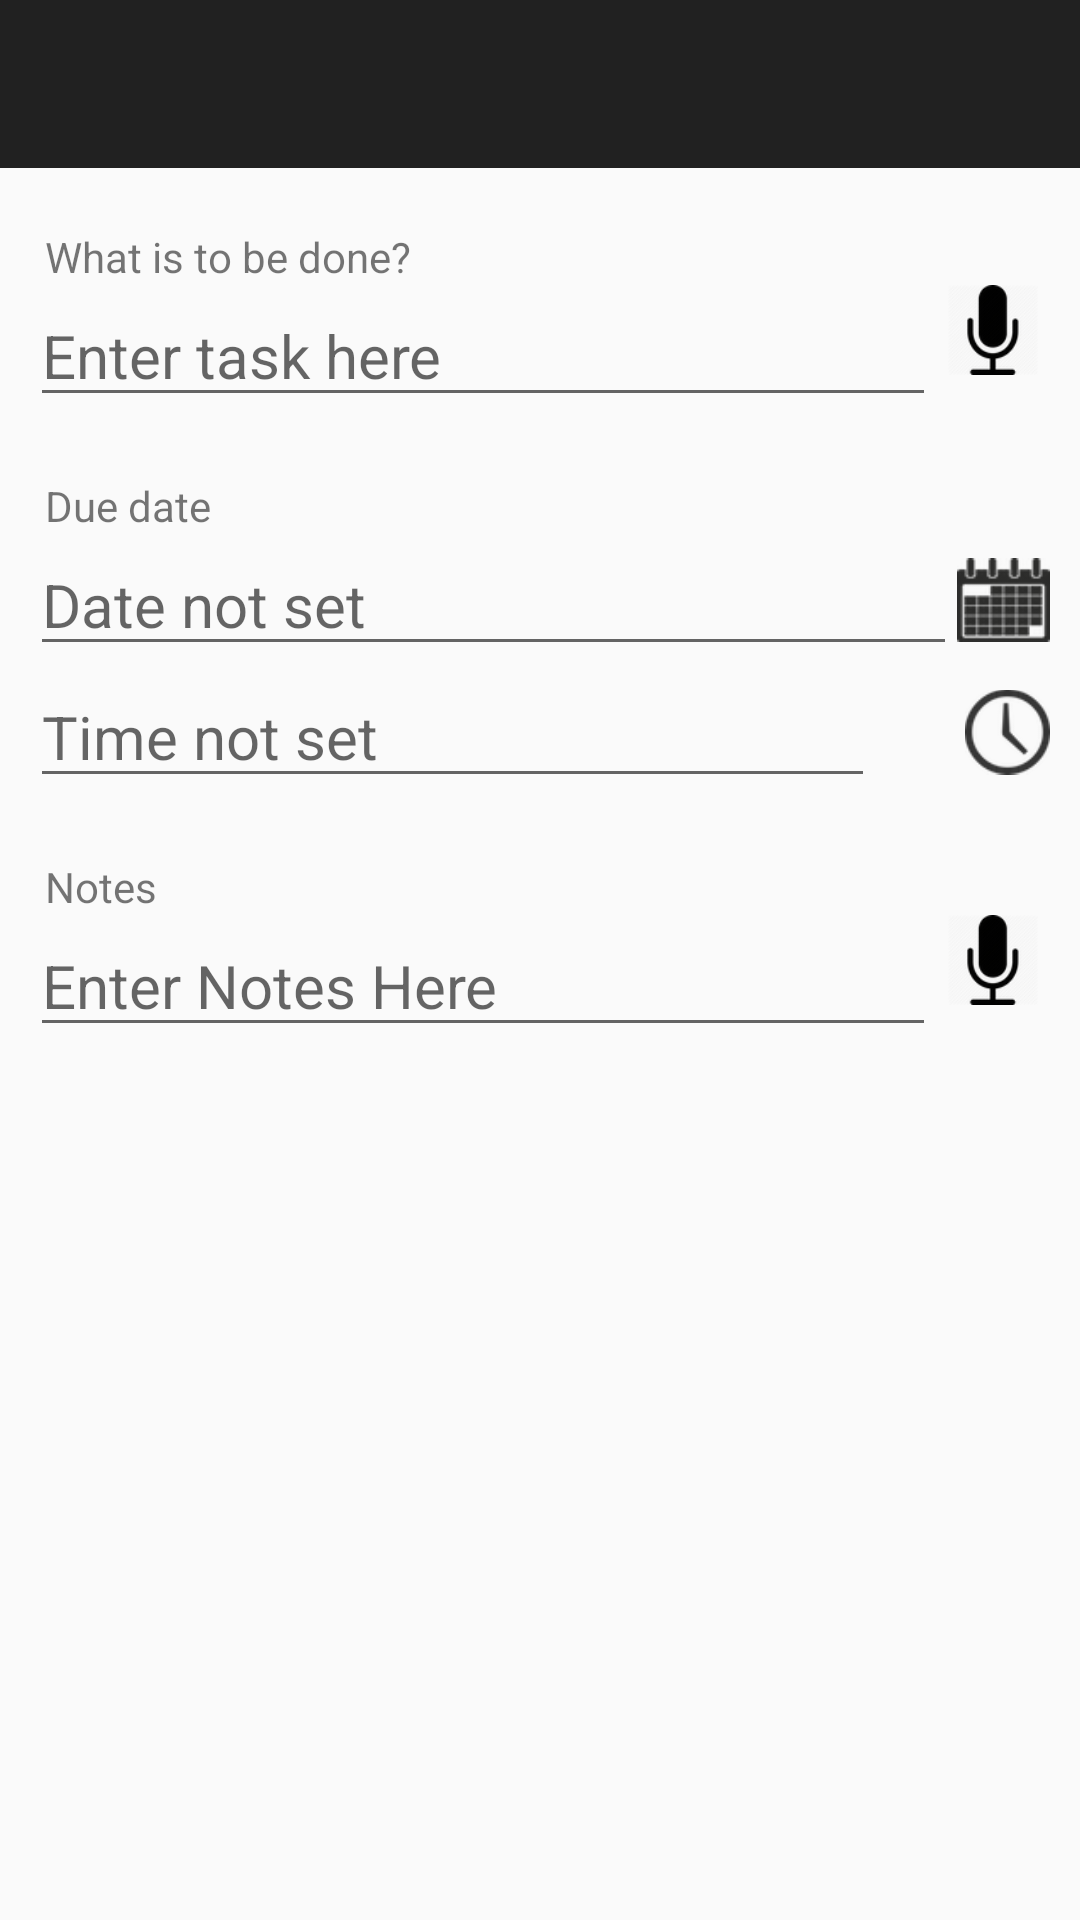

Named icons in this screenshot (1080 x 1920) and their centers, [x,y]:
calendar: [1003,600]
clock: [1007,732]
google voice: [993,330], [993,960]
